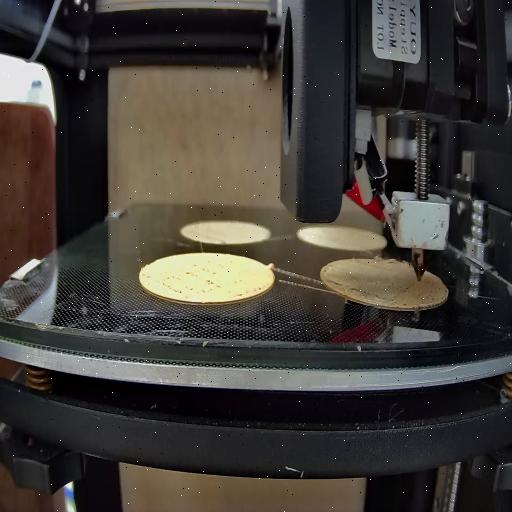under_extrusion: (142, 266, 220, 296), (386, 277, 448, 309), (326, 275, 380, 301), (232, 276, 264, 302)
